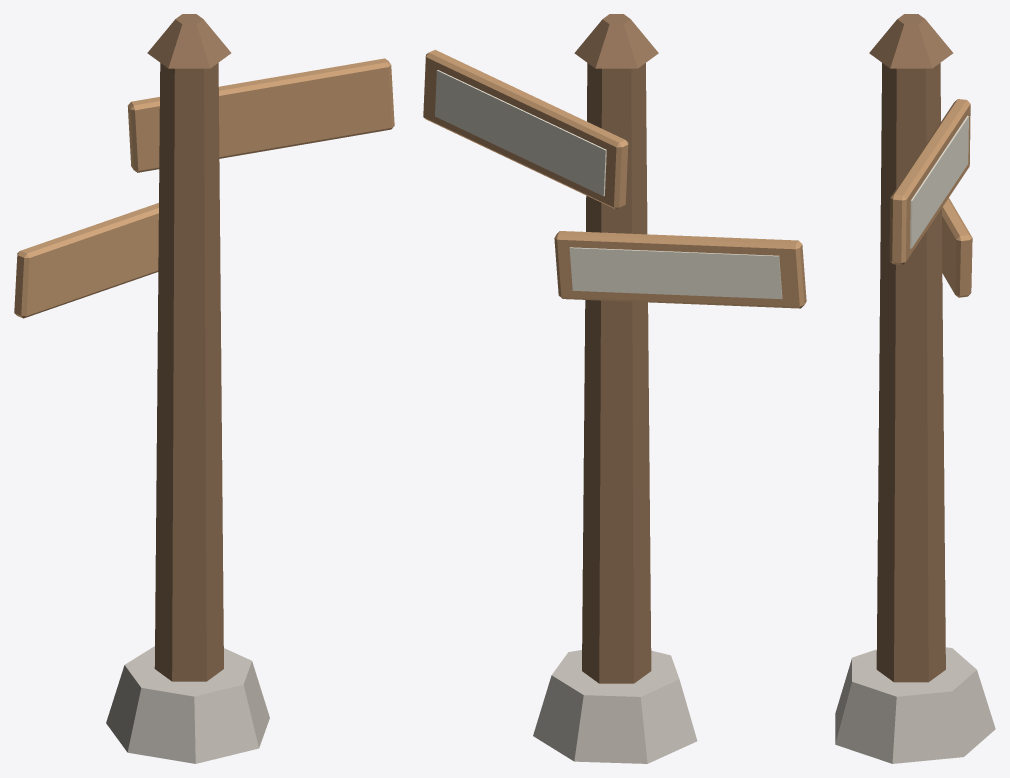
Rendered from Park_Signpost.fbx.
3 renders of one model, left to right at view 1: azimuth 30°, elevation 25°; view 2: azimuth 150°, elevation 25°; view 3: azimuth 270°, elevation 25°, orthographic.
Visible parts, largest first — view 1: Park_Signpost; view 2: Park_Signpost; view 3: Park_Signpost.
Part boxes in pixels (<box>): Park_Signpost: <box>14,14,394,763</box>; Park_Signpost: <box>423,14,806,763</box>; Park_Signpost: <box>835,14,995,763</box>.
Bounding box in the file's own units: 0.9332 × 1.67 × 0.3422.
